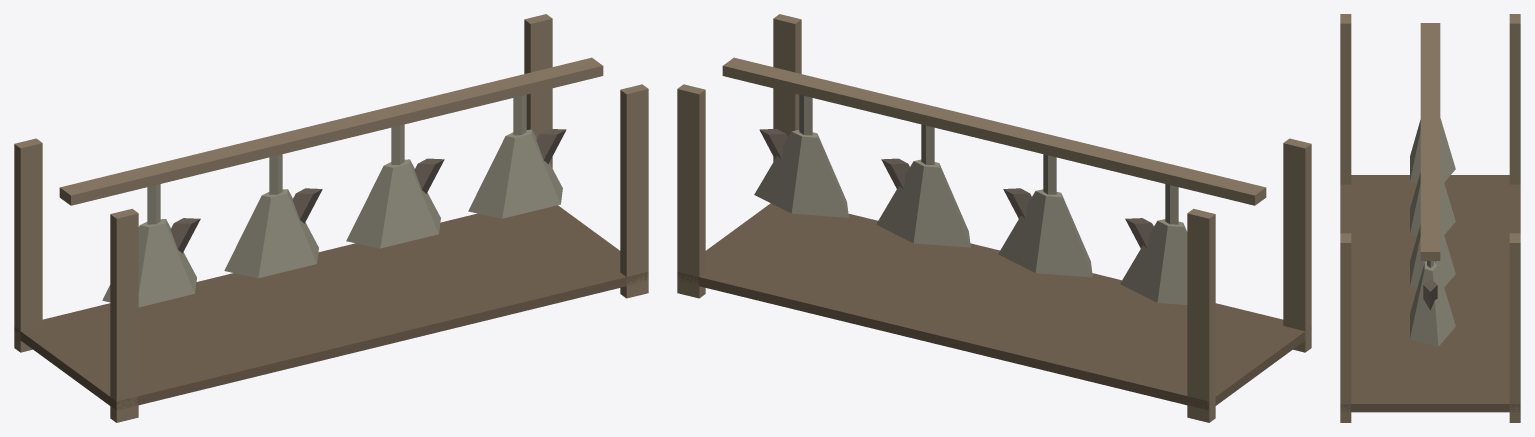
File: herb_drying_rack.glb
3 views of the same model, side by side, from view 1: azimuth 30°, elevation 25°; view 2: azimuth 150°, elevation 25°; view 3: azimuth 270°, elevation 25° (orthographic). The views are drawn at different scales.
Visible parts, largest first — view 1: herb_drying_rack; view 2: herb_drying_rack; view 3: herb_drying_rack.
Boxes of the visible parts, x1=… form: herb_drying_rack: x1=14, y1=14, x2=648, y2=422; herb_drying_rack: x1=677, y1=14, x2=1311, y2=422; herb_drying_rack: x1=1340, y1=14, x2=1520, y2=422.
Bounding box in the file's own units: 3 × 1.1 × 1.
